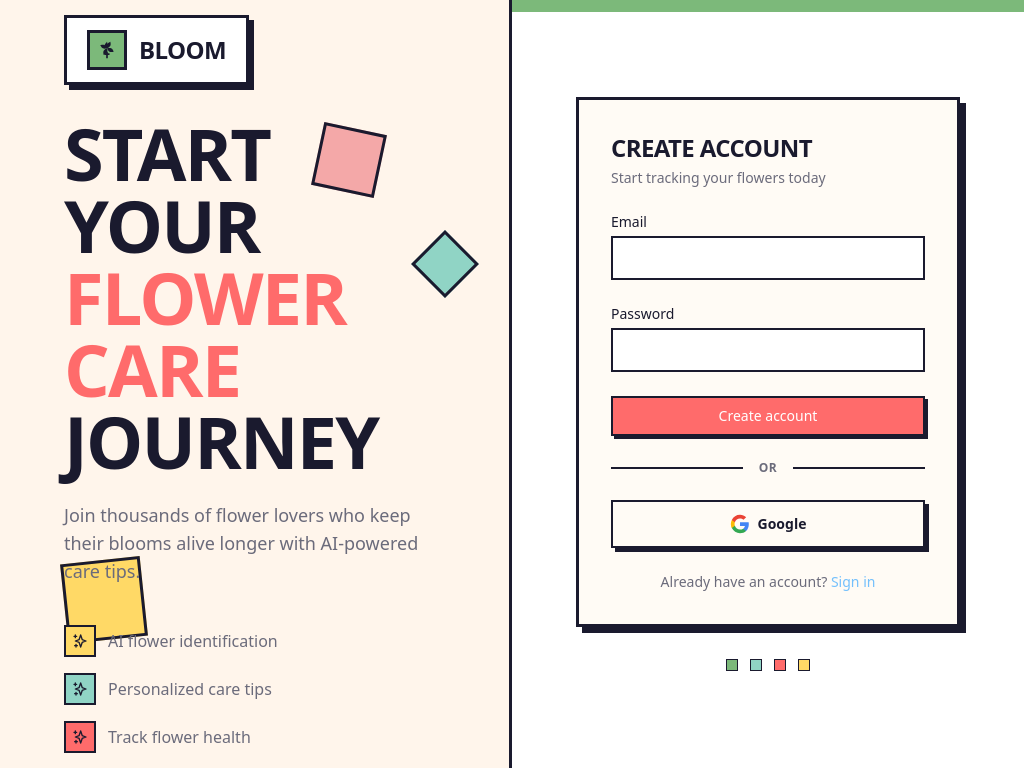
Test: SignupPage › displays duplicate email error on 409 response
Type "existing@example.com" into the field labelled "Email" at [768, 258], box [611, 236, 925, 280]
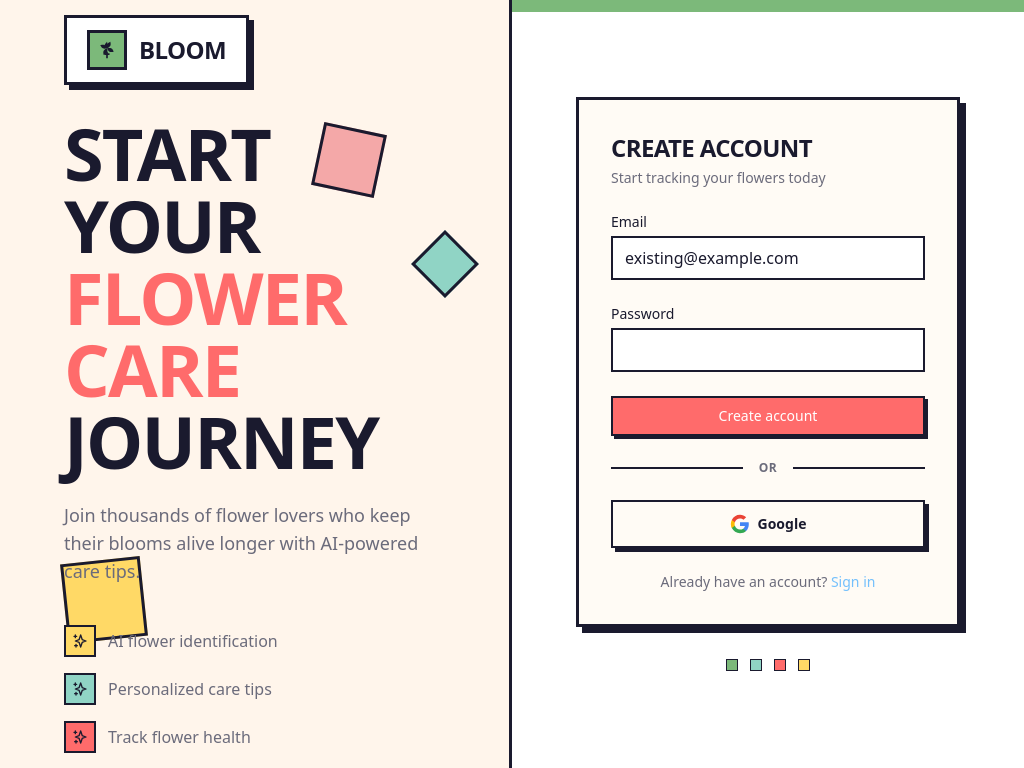
Type "password123" into the password field labelled "Password" at [768, 350], box [611, 328, 925, 372]
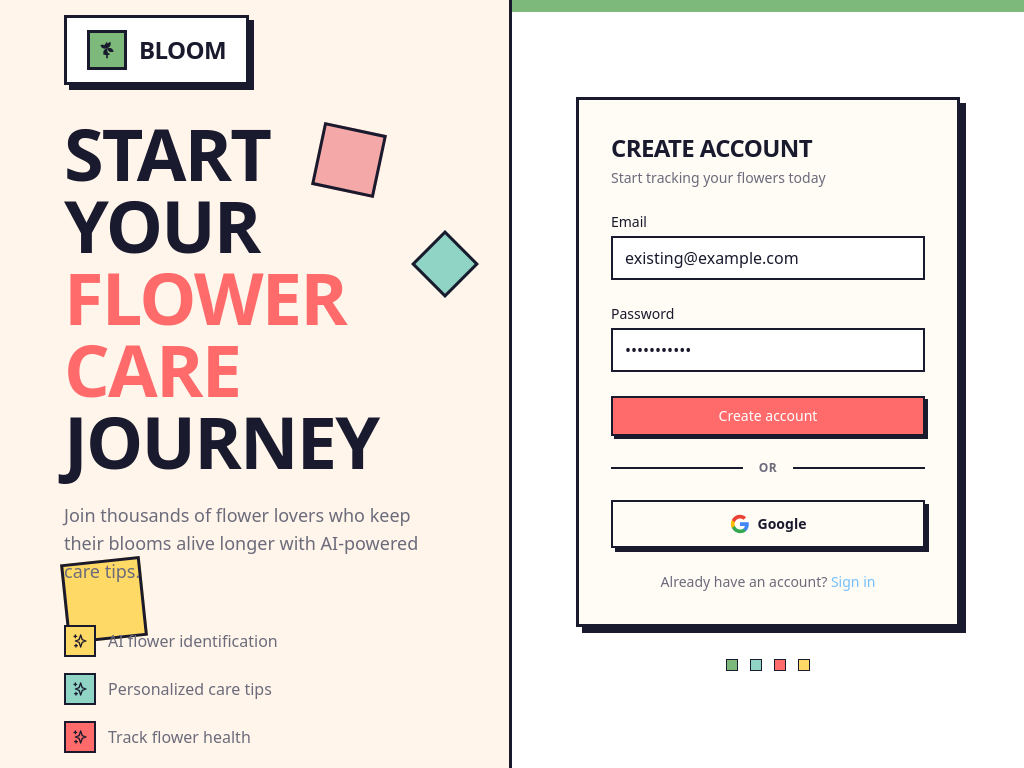
Click the button "Create account" at [768, 416], box [611, 396, 925, 436]
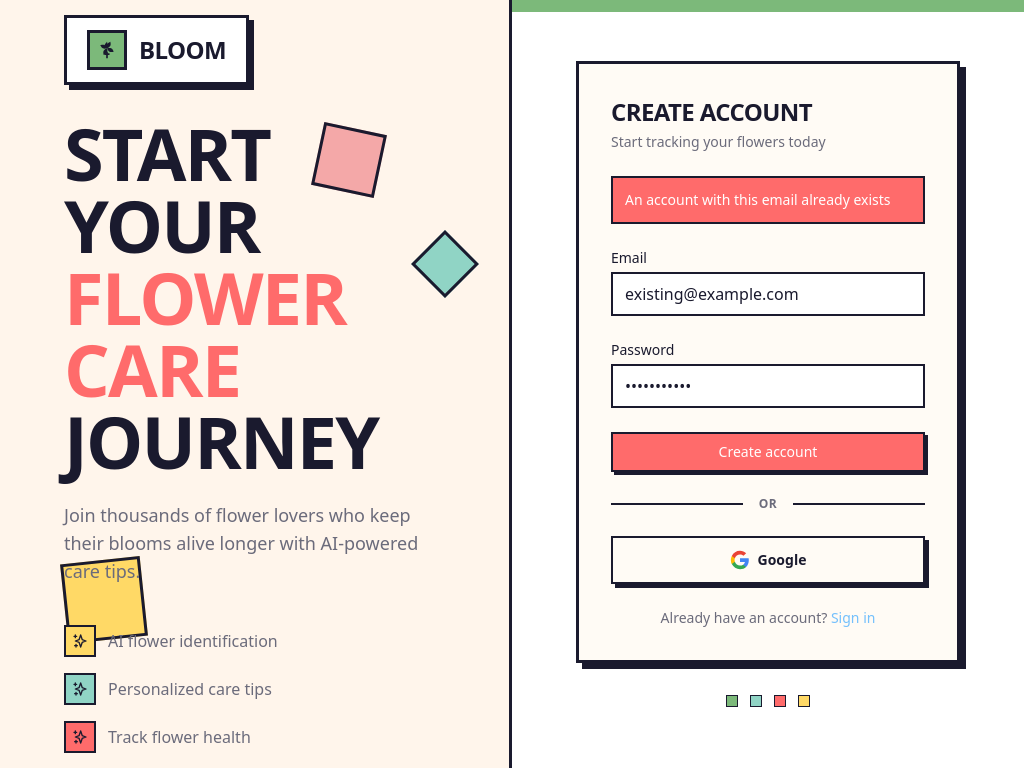
Check: the text "An account with this email already exists" is shown, box [611, 176, 925, 224]
